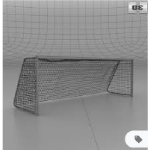goals: (13, 54, 136, 115)
